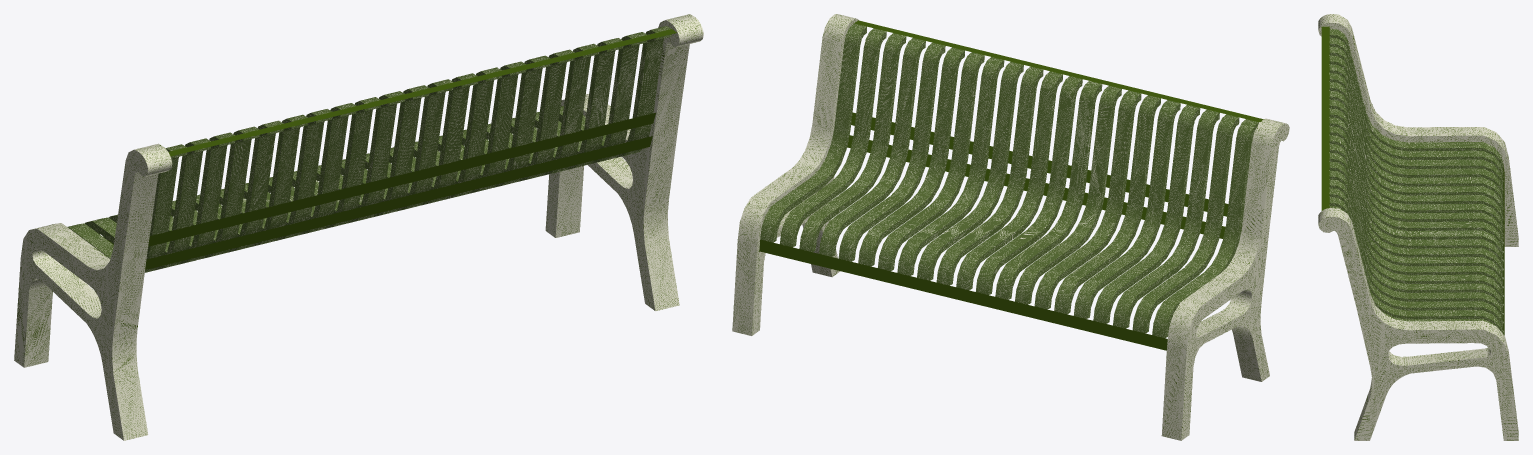
The picture shows the model from 3 angles, left to right: view 1: azimuth 30°, elevation 25°; view 2: azimuth 150°, elevation 25°; view 3: azimuth 270°, elevation 25°; orthographic projection. The views are drawn at different scales.
Parts seen in each view (by area): view 1: mesh1_mesh1-geometry, mesh2_mesh2-geometry, mesh7_mesh7-geometry, mesh6_mesh6-geometry, mesh5_mesh5-geometry; view 2: mesh1_mesh1-geometry, mesh2_mesh2-geometry, mesh4_mesh4-geometry, mesh5_mesh5-geometry, mesh6_mesh6-geometry, mesh7_mesh7-geometry; view 3: mesh1_mesh1-geometry, mesh2_mesh2-geometry, mesh5_mesh5-geometry, mesh4_mesh4-geometry.
Boxes of the visible parts, x1,y1,x2,y2 form: mesh1_mesh1-geometry: [67, 26, 671, 272]; mesh2_mesh2-geometry: [14, 14, 703, 440]; mesh7_mesh7-geometry: [148, 112, 655, 246]; mesh6_mesh6-geometry: [145, 136, 652, 269]; mesh5_mesh5-geometry: [168, 29, 676, 156]; mesh1_mesh1-geometry: [760, 23, 1258, 337]; mesh2_mesh2-geometry: [732, 14, 1289, 440]; mesh4_mesh4-geometry: [759, 239, 1167, 350]; mesh5_mesh5-geometry: [854, 20, 1263, 122]; mesh6_mesh6-geometry: [847, 135, 1225, 238]; mesh7_mesh7-geometry: [851, 112, 1228, 216]; mesh1_mesh1-geometry: [1329, 29, 1503, 333]; mesh2_mesh2-geometry: [1318, 14, 1518, 440]; mesh5_mesh5-geometry: [1321, 26, 1329, 210]; mesh4_mesh4-geometry: [1503, 163, 1504, 335].
Size of the model in its own units: 0.8333 by 0.4294 by 0.3483.
